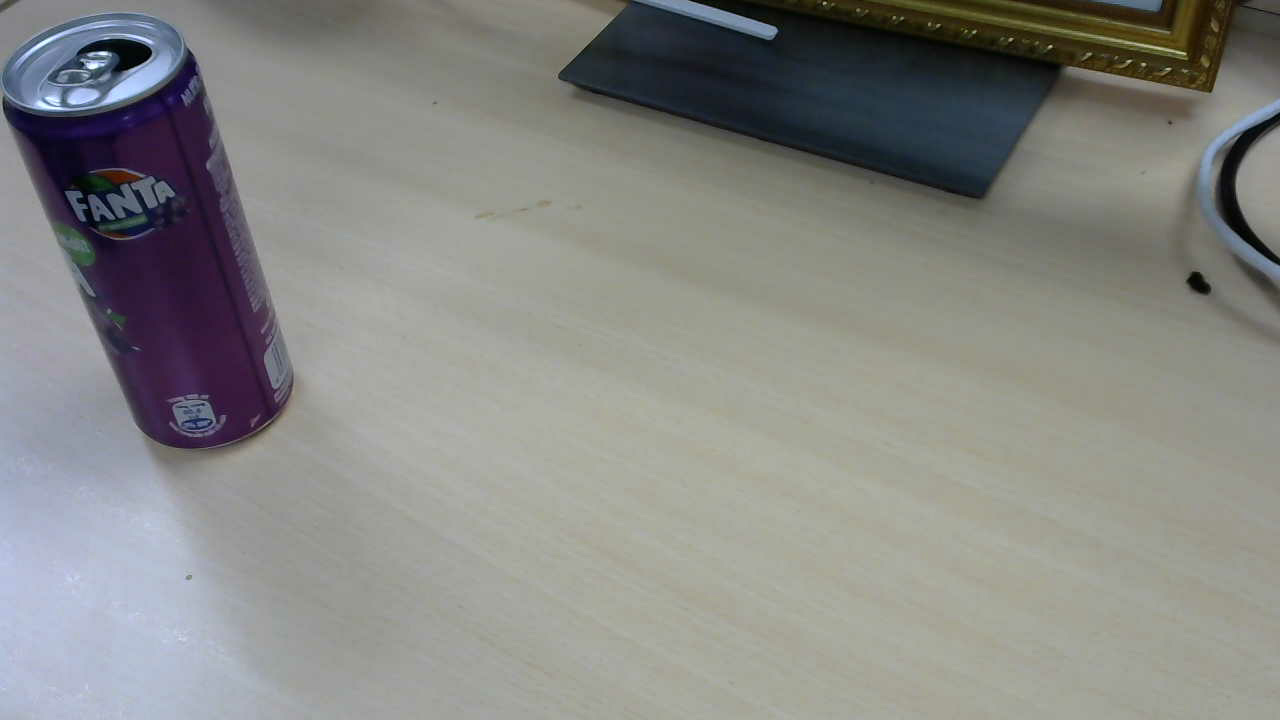Fanta: (5, 20, 300, 457)
